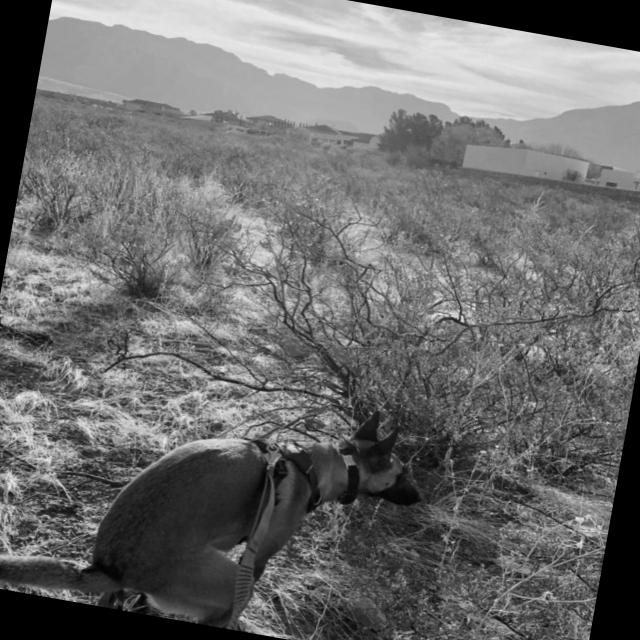squatting: (0, 340, 444, 640)
